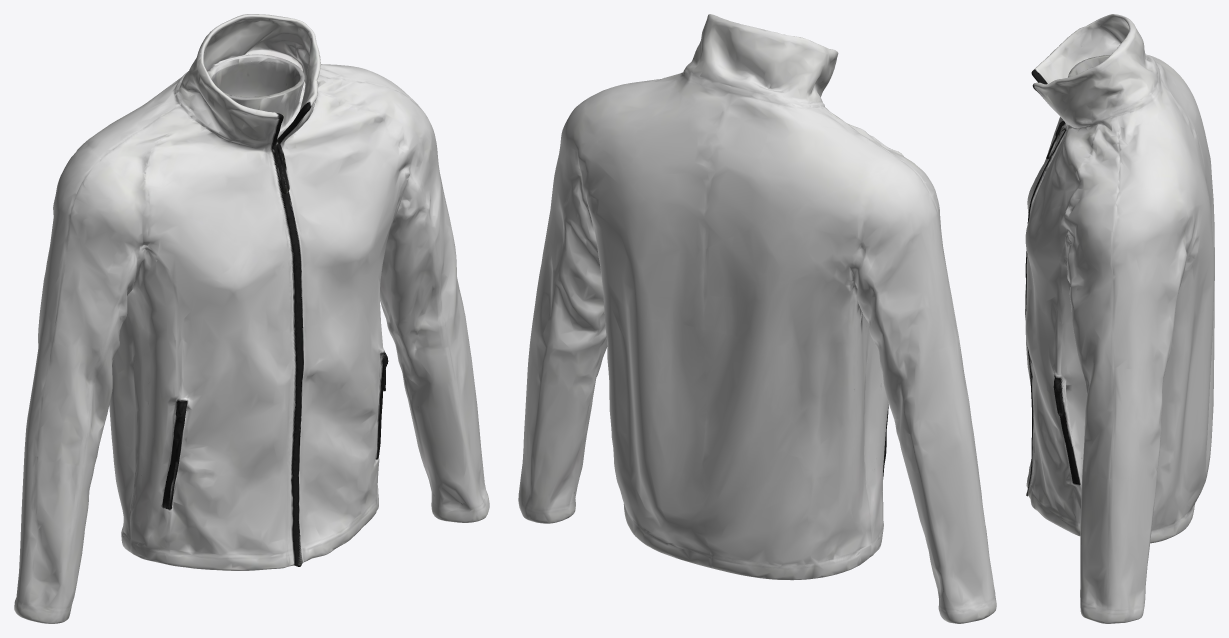
The picture shows the model from 3 angles, left to right: view 1: azimuth 30°, elevation 25°; view 2: azimuth 150°, elevation 25°; view 3: azimuth 270°, elevation 25°; orthographic projection. The views are drawn at different scales.
Parts seen in each view (by area): view 1: tripo_node_65ac4fd2-f46b-457a-80db-90a0a8eceae9; view 2: tripo_node_65ac4fd2-f46b-457a-80db-90a0a8eceae9; view 3: tripo_node_65ac4fd2-f46b-457a-80db-90a0a8eceae9.
Part boxes in pixels (x1,y1,x2,y2): tripo_node_65ac4fd2-f46b-457a-80db-90a0a8eceae9: (14, 14, 489, 623); tripo_node_65ac4fd2-f46b-457a-80db-90a0a8eceae9: (518, 14, 996, 623); tripo_node_65ac4fd2-f46b-457a-80db-90a0a8eceae9: (1025, 14, 1214, 623).
Size of the model in its own units: 0.9071 by 0.9998 by 0.3459.
Materials: 1 (1 with a texture image).
